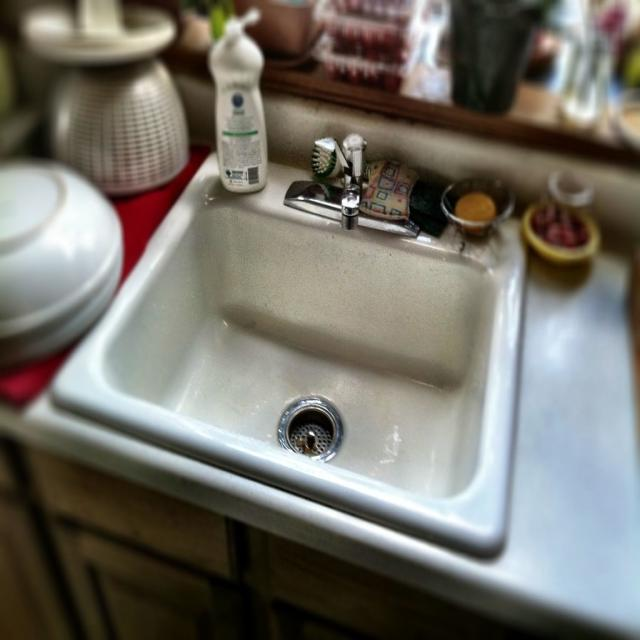Glass: (32, 234, 527, 504)
Metal: (284, 127, 376, 228)
Plastics: (207, 0, 272, 205)
